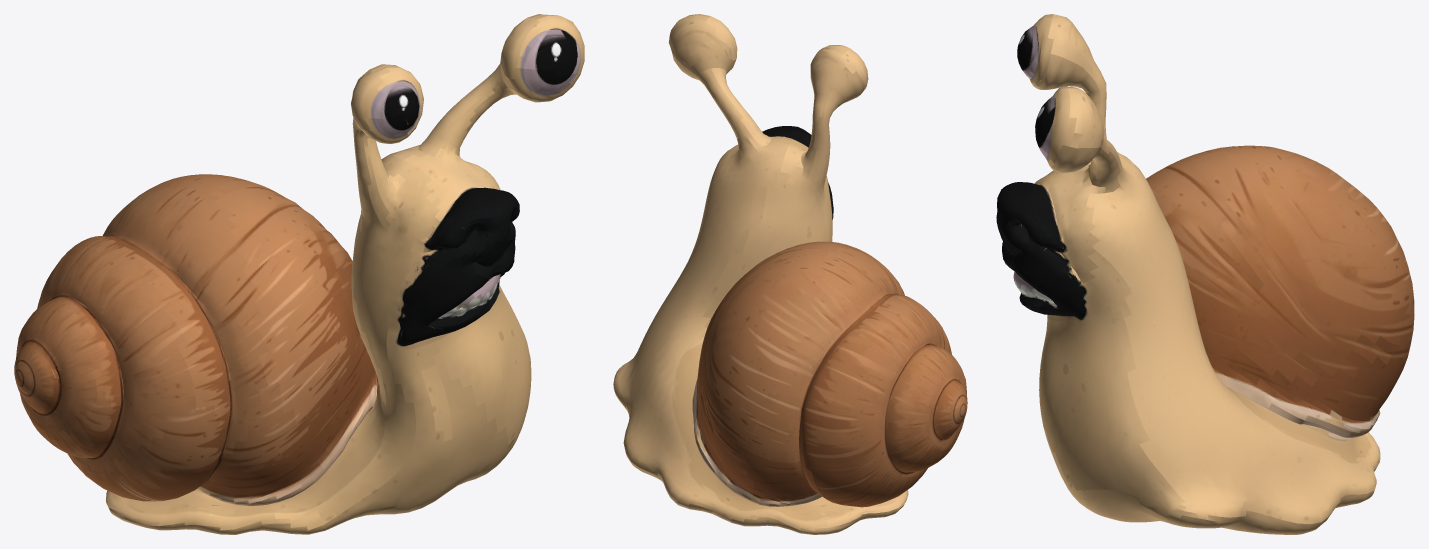
File: narek.glb
3 renders of one model, left to right at view 1: azimuth 30°, elevation 25°; view 2: azimuth 150°, elevation 25°; view 3: azimuth 270°, elevation 25°, orthographic. The views are drawn at different scales.
Visible parts, largest first — view 1: Mesh0; view 2: Mesh0; view 3: Mesh0.
Part boxes in pixels (<box>): Mesh0: <box>14,14,584,534</box>; Mesh0: <box>613,14,967,534</box>; Mesh0: <box>996,14,1414,534</box>.
Bounding box in the file's own units: 1.9 × 1.87 × 1.5.
Materials: 1 (1 with a texture image).
